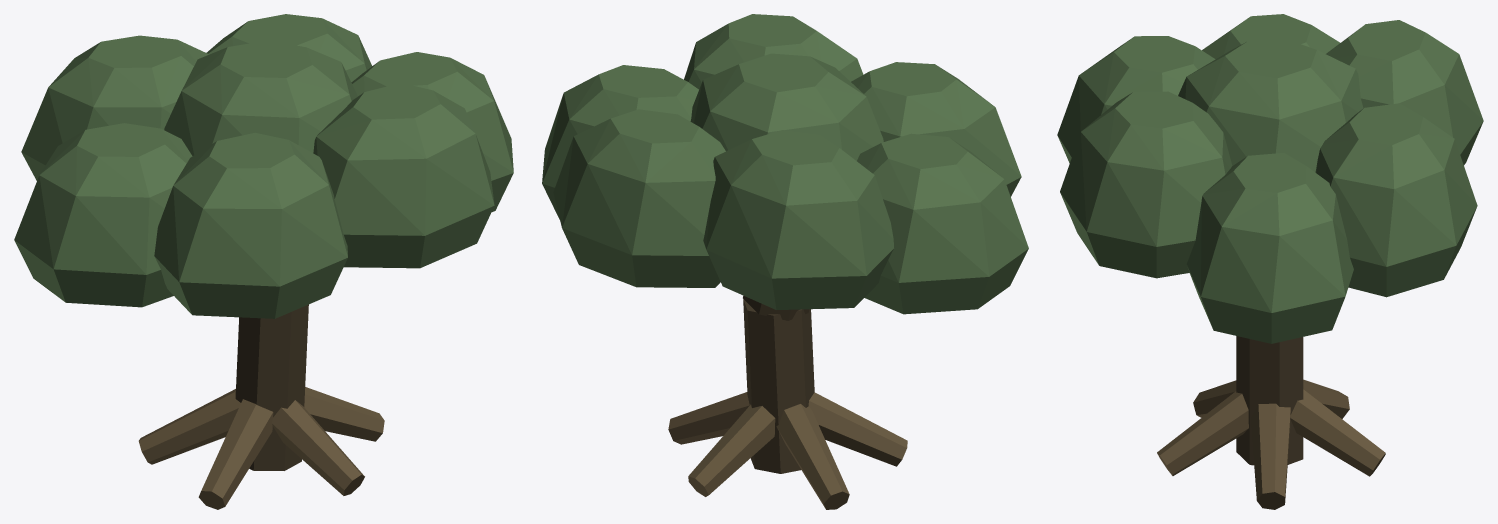
File: rooted-sapling.glb
3 views of the same model, side by side, from view 1: azimuth 30°, elevation 25°; view 2: azimuth 150°, elevation 25°; view 3: azimuth 270°, elevation 25° (orthographic). The views are drawn at different scales.
Visible parts, largest first — view 1: rooted-sapling__body; view 2: rooted-sapling__body; view 3: rooted-sapling__body.
Boxes of the visible parts, x1=… form: rooted-sapling__body: x1=14, y1=14, x2=513, y2=509; rooted-sapling__body: x1=542, y1=14, x2=1028, y2=509; rooted-sapling__body: x1=1057, y1=14, x2=1483, y2=509.
Size of the model in its own units: 1.32 by 1.07 by 1.03.
